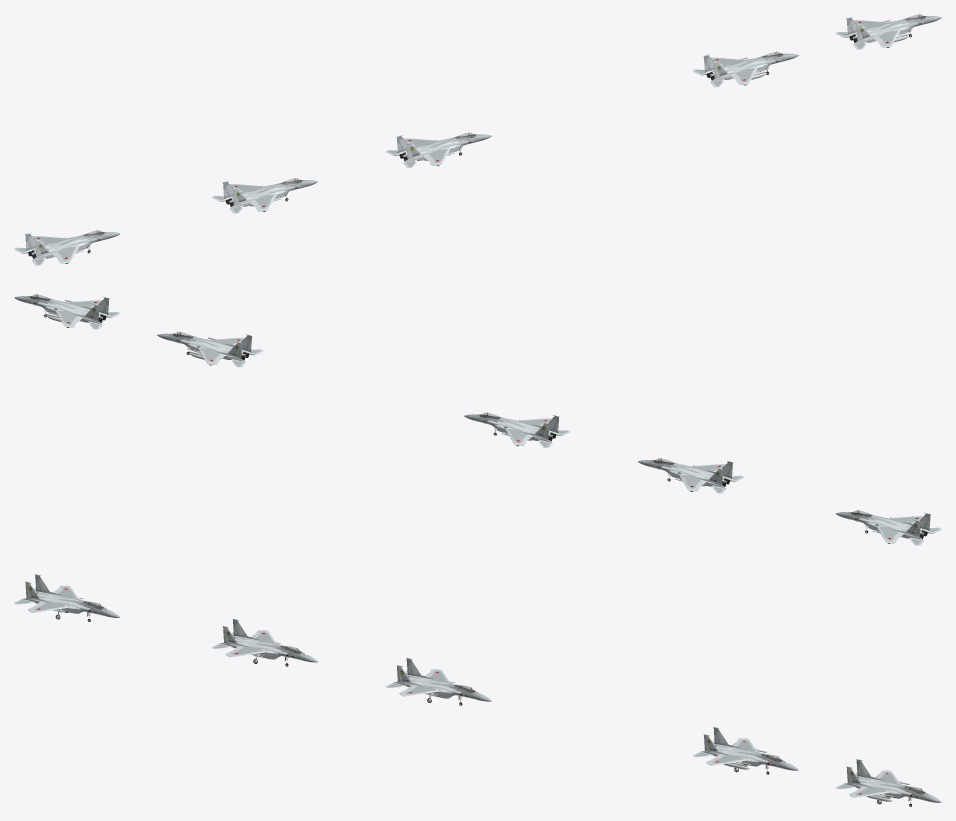
Rendered from f15jft4.glb.
3 views of the same model, one above another, from view 1: azimuth 30°, elevation 25°; view 2: azimuth 150°, elevation 25°; view 3: azimuth 330°, elevation 25° (orthographic).
Visible parts, largest first — view 1: fuselage.003, fuselage.004, fuselage.002, fuselage.001, fuselage.005; view 2: fuselage.003, fuselage.002, fuselage.004, fuselage.001, fuselage.005; view 3: fuselage.004, fuselage.002, fuselage.003, fuselage.001, fuselage.005.
Boxes of the visible parts, box(x1,y1,x2,y2) form: fuselage.003: box(212, 178, 317, 213); fuselage.004: box(14, 230, 120, 265); fuselage.002: box(385, 132, 491, 167); fuselage.001: box(692, 52, 798, 87); fuselage.005: box(835, 14, 941, 49); fuselage.003: box(638, 458, 743, 493); fuselage.002: box(464, 412, 570, 447); fuselage.004: box(835, 510, 941, 545); fuselage.001: box(157, 332, 263, 367); fuselage.005: box(14, 294, 120, 329); fuselage.004: box(14, 574, 120, 621); fuselage.002: box(385, 657, 491, 705); fuselage.003: box(212, 618, 317, 666); fuselage.001: box(692, 727, 798, 774); fuselage.005: box(835, 759, 941, 806).
Bounding box in the file's own units: 169 × 8.13 × 11.7.
31 materials, 2 textured.
